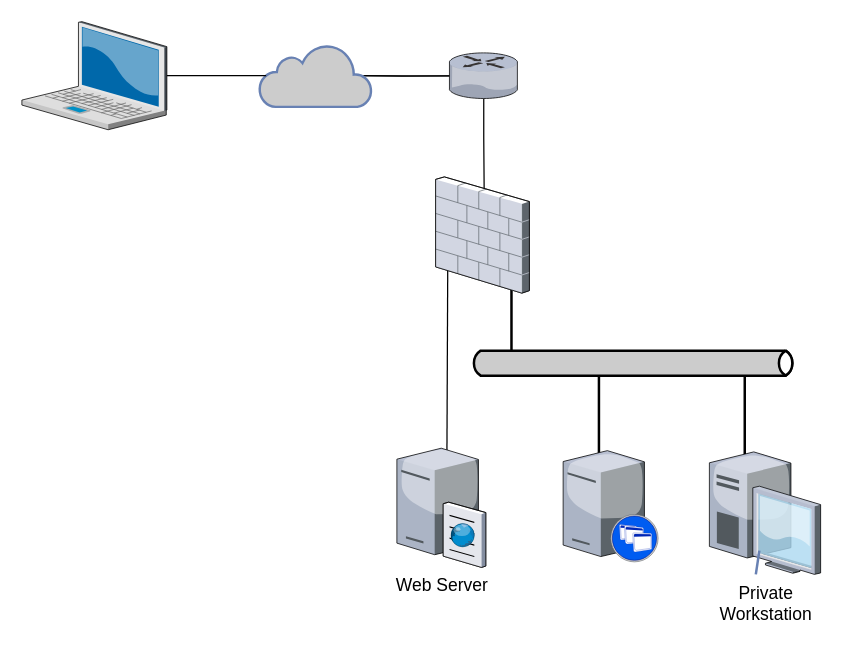
The diagram is 841 pixels wide and 648 high, and some of its shapes have lost their labels. Here are the shapes that lost their labels. From the top down, the centre of each, then its label:
[93,75]: Attacker
[610,505]: Private File Server
